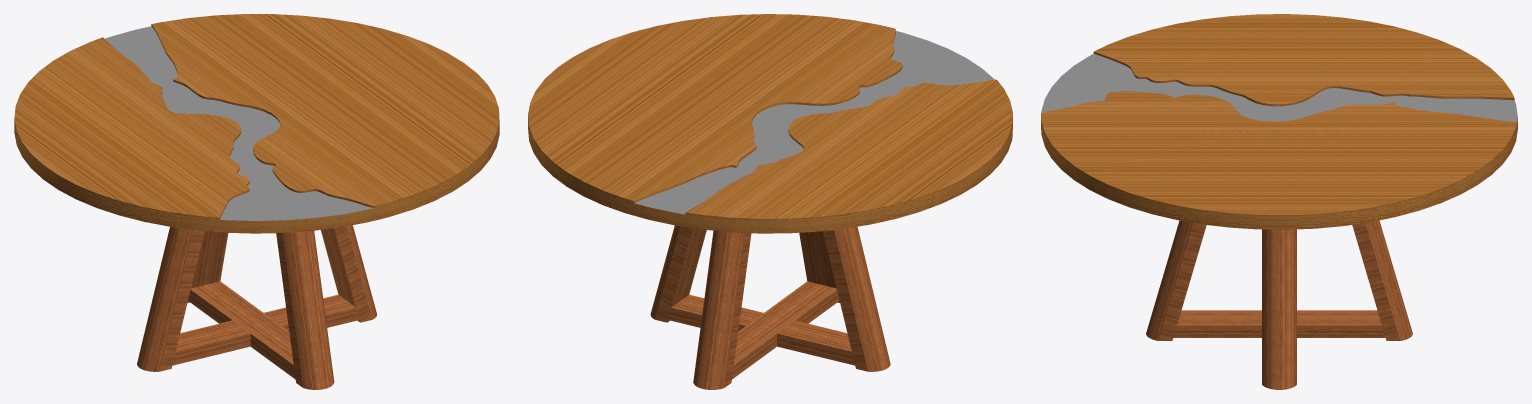
The model's file is IFD6471RND-mwmnp6mr.glb.
The picture shows the model from 3 angles, left to right: view 1: azimuth 30°, elevation 25°; view 2: azimuth 150°, elevation 25°; view 3: azimuth 270°, elevation 25°; orthographic projection.
Visible parts, largest first — view 1: IFD6471RNDTP-CUBIERTA-2, IFD6471RNDBA-PATA-2, IFD6471RNDBA-PATA-3, IFD6471RNDBA-ARMADOR BASE INFERIOR-2, IFD6471RNDBA-ARMADOR BASE INFERIOR-1, IFD6471RNDBA-PATA-1, IFD6471RNDBA-PATA-4; view 2: IFD6471RNDTP-CUBIERTA-2, IFD6471RNDBA-PATA-4, IFD6471RNDBA-PATA-3, IFD6471RNDBA-ARMADOR BASE INFERIOR-2, IFD6471RNDBA-ARMADOR BASE INFERIOR-1, IFD6471RNDBA-PATA-1, IFD6471RNDBA-PATA-2; view 3: IFD6471RNDTP-CUBIERTA-2, IFD6471RNDBA-PATA-1, IFD6471RNDBA-ARMADOR BASE INFERIOR-2, IFD6471RNDBA-PATA-2, IFD6471RNDBA-PATA-4.
Part boxes in pixels (x1,y1,x2,y2): IFD6471RNDTP-CUBIERTA-2: (14,14,499,233); IFD6471RNDBA-PATA-2: (276,230,334,389); IFD6471RNDBA-PATA-3: (137,227,204,371); IFD6471RNDBA-ARMADOR BASE INFERIOR-2: (188,281,295,379); IFD6471RNDBA-ARMADOR BASE INFERIOR-1: (172,294,359,365); IFD6471RNDBA-PATA-1: (321,225,376,322); IFD6471RNDBA-PATA-4: (187,231,228,302); IFD6471RNDTP-CUBIERTA-2: (528,14,1012,233); IFD6471RNDBA-PATA-4: (693,230,751,389); IFD6471RNDBA-PATA-3: (823,226,890,371); IFD6471RNDBA-ARMADOR BASE INFERIOR-2: (732,281,839,379); IFD6471RNDBA-ARMADOR BASE INFERIOR-1: (668,294,854,365); IFD6471RNDBA-PATA-1: (650,225,706,322); IFD6471RNDBA-PATA-2: (799,231,839,302); IFD6471RNDTP-CUBIERTA-2: (1041,14,1517,229); IFD6471RNDBA-PATA-1: (1262,229,1296,389); IFD6471RNDBA-ARMADOR BASE INFERIOR-2: (1173,310,1385,337); IFD6471RNDBA-PATA-2: (1146,220,1206,340); IFD6471RNDBA-PATA-4: (1352,220,1412,340).
Bounding box in the file's own units: 1.5 × 0.76 × 1.5.
Materials: 8 (3 with a texture image).
